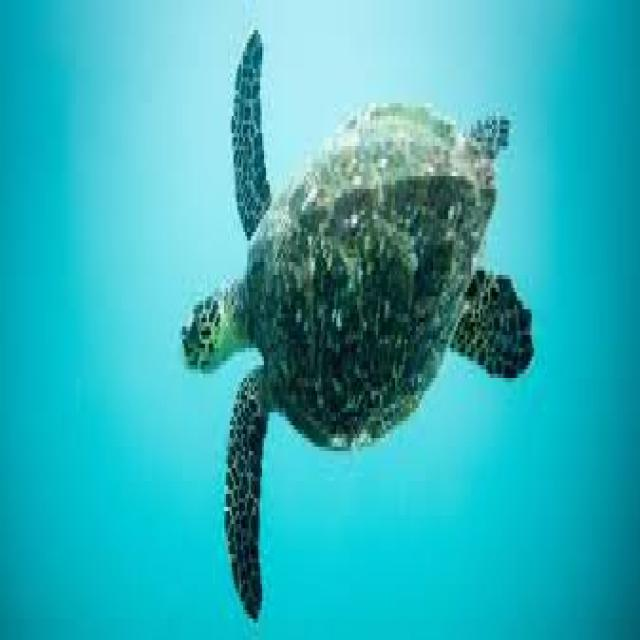turtle: (156, 188, 533, 522)
